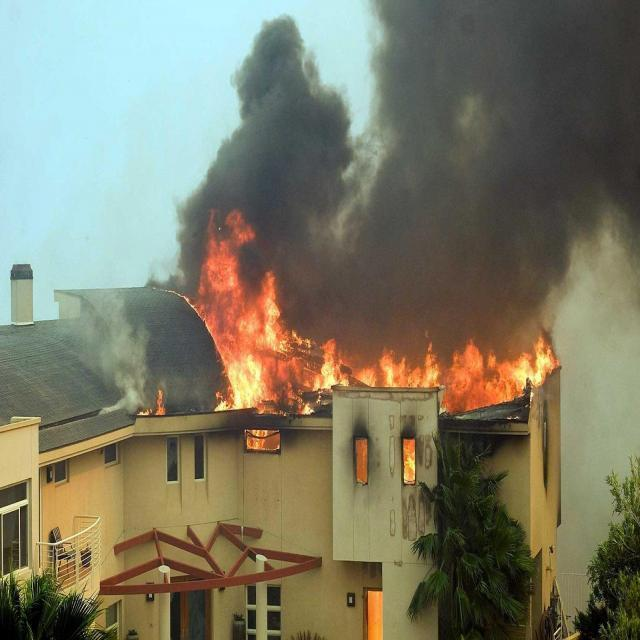Fire: (182, 206, 336, 438), (336, 332, 564, 406), (360, 589, 390, 640), (397, 436, 420, 488)
Smoke: (182, 2, 640, 316)
